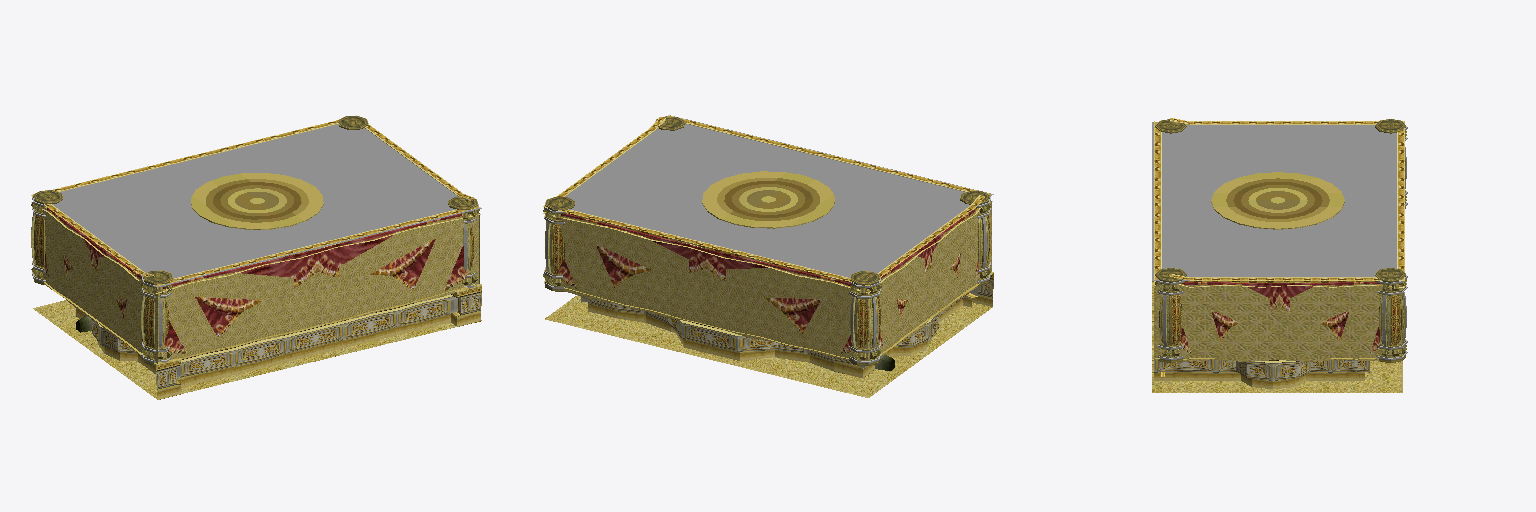
3 views of the same model, side by side, from view 1: azimuth 30°, elevation 25°; view 2: azimuth 150°, elevation 25°; view 3: azimuth 270°, elevation 25° (orthographic).
Parts seen in each view (by area): view 1: part2_texture14, part0_texture1, part1_texture4, part3_texture1, part3_texture6, part0_texture13, part5_texture2, part7_texture4, part13_texture7, part10_texture4, part1_texture10, part12_texture6; view 2: part2_texture14, part4_texture1, part7_texture4, part5_texture2, part3_texture1, part0_texture13, part12_texture6, part13_texture7, part1_texture4, part1_texture10, part0_texture9; view 3: part2_texture14, part3_texture1, part7_texture4, part0_texture13, part5_texture2, part12_texture6, part13_texture7, part1_texture4, part1_texture10, part0_texture9.
Part boxes in pixels (left/top/right/bottom): part2_texture14: left=52, top=124, right=481, bottom=286; part0_texture1: left=157, top=213, right=478, bottom=360; part1_texture4: left=156, top=206, right=480, bottom=387; part3_texture1: left=43, top=207, right=479, bottom=364; part3_texture6: left=163, top=213, right=466, bottom=353; part0_texture13: left=191, top=173, right=323, bottom=228; part5_texture2: left=33, top=300, right=481, bottom=399; part7_texture4: left=31, top=115, right=473, bottom=383; part13_texture7: left=31, top=116, right=479, bottom=365; part10_texture4: left=156, top=285, right=481, bottom=399; part1_texture10: left=34, top=215, right=473, bottom=347; part12_texture6: left=45, top=208, right=142, bottom=345; part2_texture14: left=566, top=115, right=993, bottom=277; part4_texture1: left=546, top=214, right=867, bottom=359; part7_texture4: left=543, top=117, right=984, bottom=377; part5_texture2: left=545, top=295, right=992, bottom=397; part3_texture1: left=868, top=201, right=991, bottom=359; part0_texture13: left=702, top=171, right=834, bottom=227; part12_texture6: left=558, top=208, right=978, bottom=353; part13_texture7: left=543, top=116, right=991, bottom=365; part1_texture4: left=668, top=115, right=992, bottom=307; part1_texture10: left=552, top=215, right=989, bottom=347; part0_texture9: left=545, top=216, right=988, bottom=347; part2_texture14: left=1152, top=122, right=1396, bottom=280; part3_texture1: left=1154, top=283, right=1401, bottom=361; part7_texture4: left=1154, top=118, right=1404, bottom=388; part0_texture13: left=1211, top=172, right=1344, bottom=228; part5_texture2: left=1152, top=281, right=1402, bottom=392; part12_texture6: left=1181, top=282, right=1379, bottom=352; part13_texture7: left=1155, top=119, right=1406, bottom=362; part1_texture4: left=1154, top=121, right=1164, bottom=376; part1_texture10: left=1159, top=295, right=1401, bottom=345; part0_texture9: left=1160, top=295, right=1403, bottom=345.
Bounding box in the file's own units: 6.07 × 2.05 × 4.02.
17 materials, 11 textured.